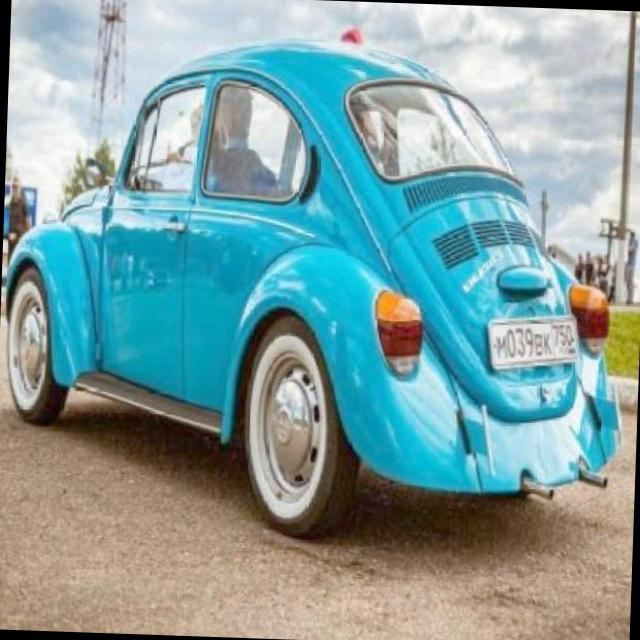car: (0, 27, 636, 519)
